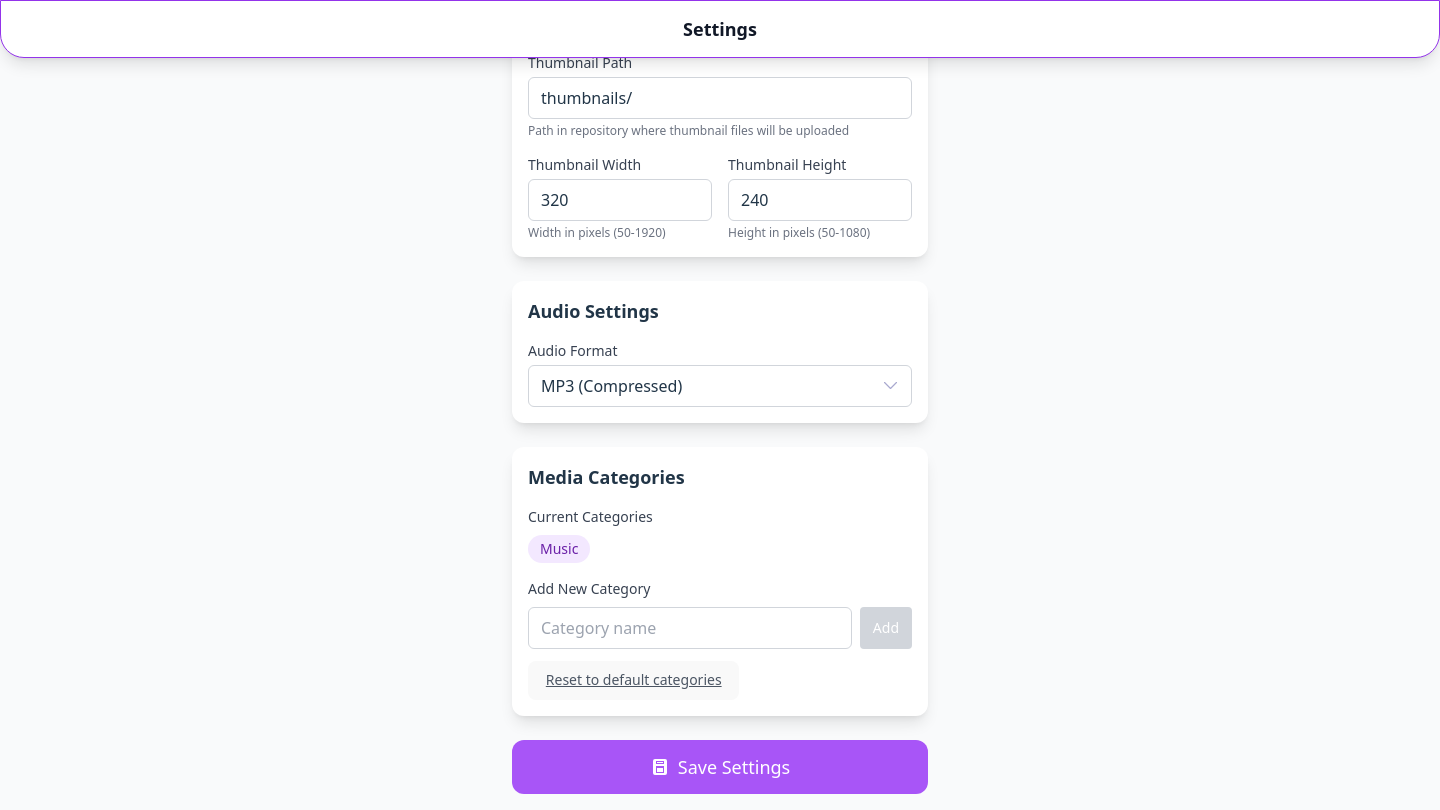
Test: Settings › handles save settings correctly
(page scrolled)
Step 1. Click the button "Save Settings" → (720, 767), box [512, 740, 928, 794]
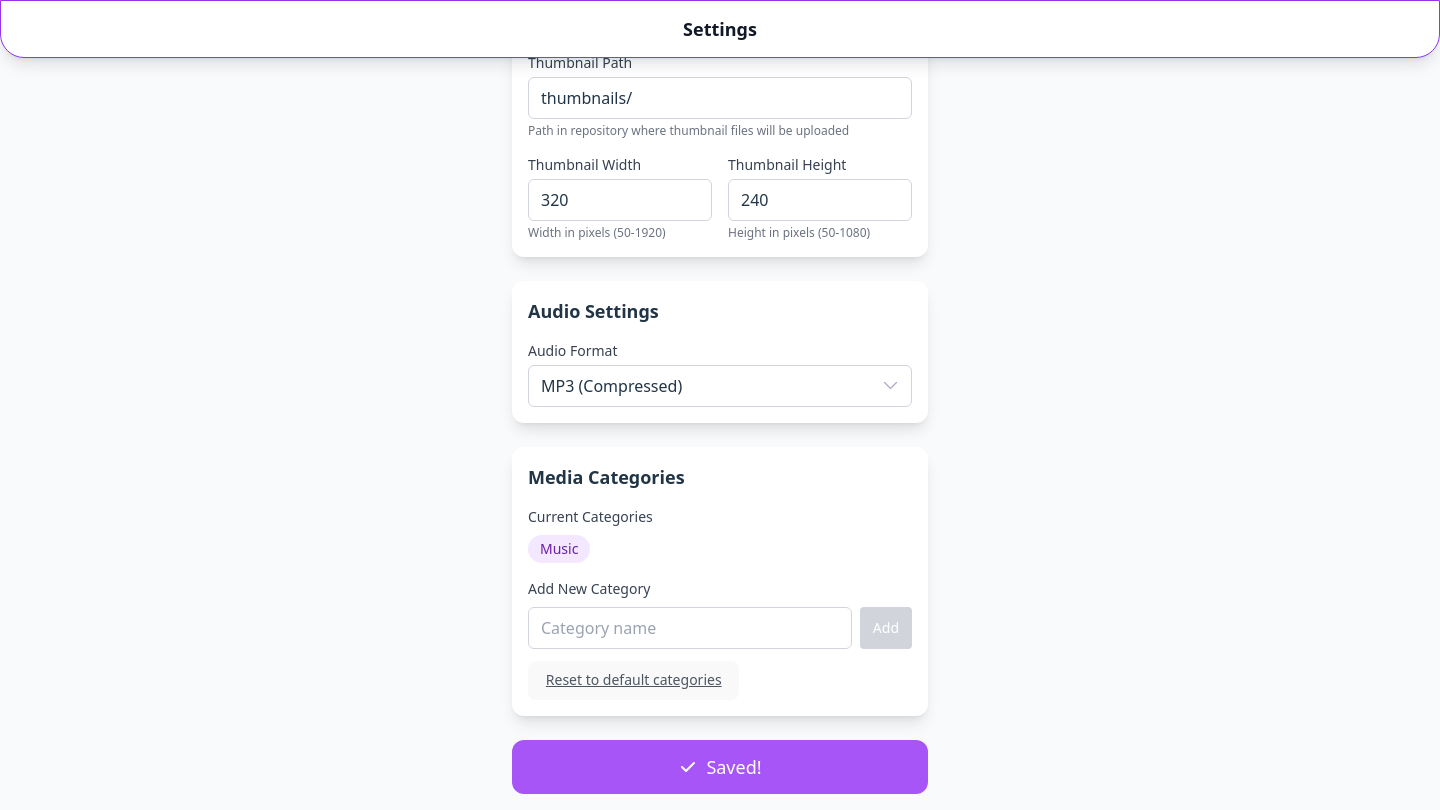
expect the button "Saved!" is shown: met, box [512, 740, 928, 794]
